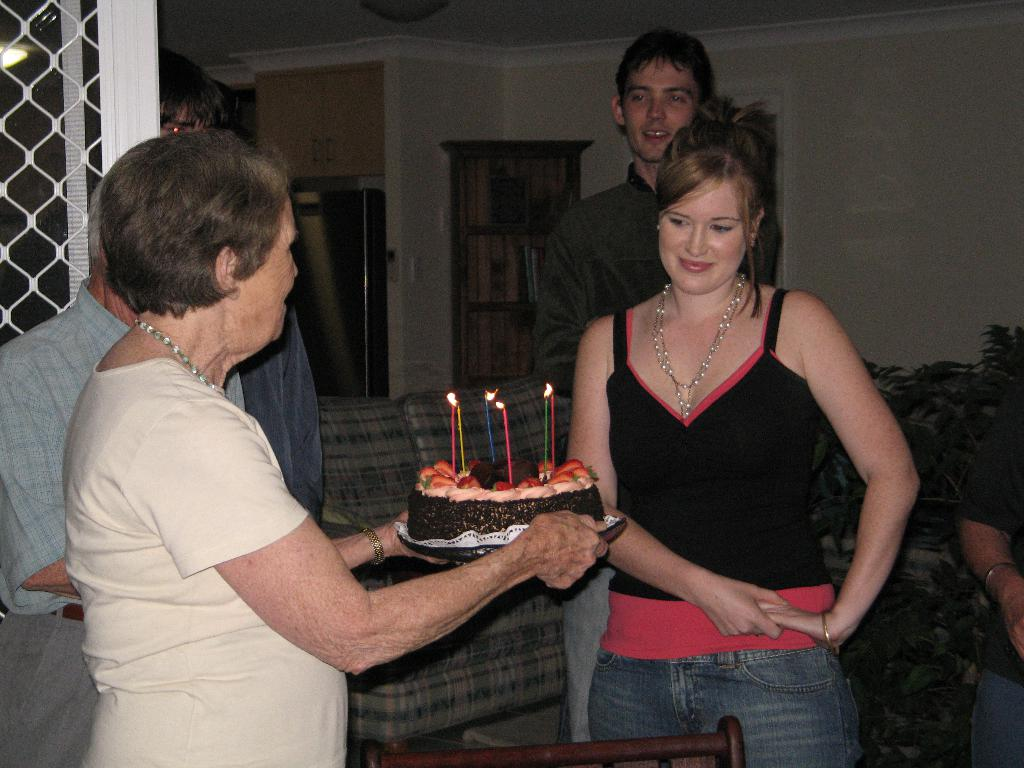cake: (408, 452, 600, 547)
